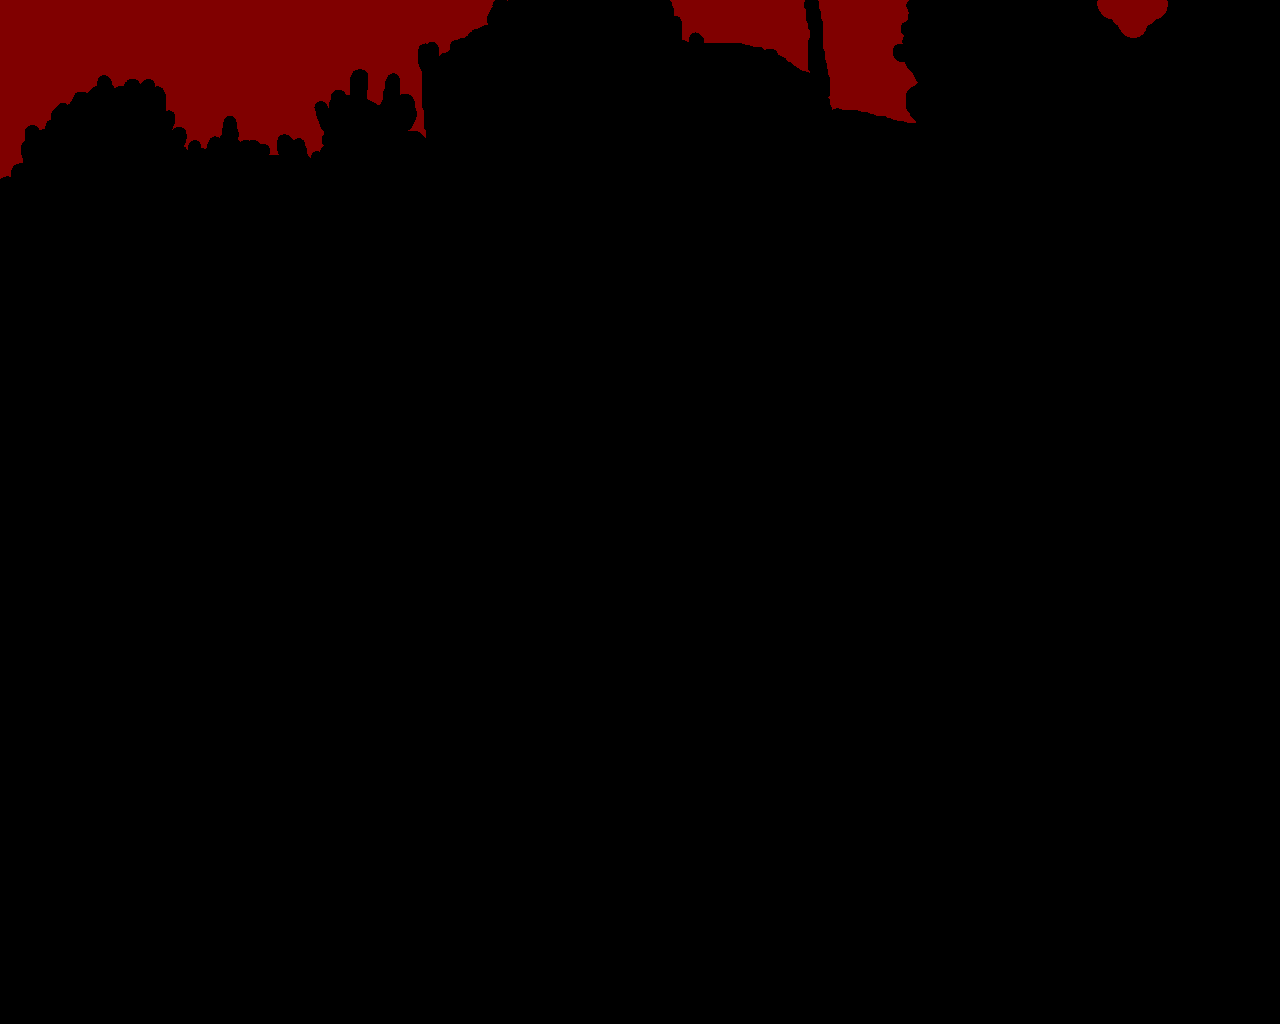Sky: (1, 1, 1167, 179)
